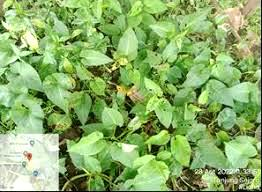Helopeltis-Withered Sprout: (146, 129, 171, 145), (51, 113, 73, 130), (234, 115, 257, 131), (21, 31, 40, 50), (238, 36, 252, 60), (63, 57, 79, 75), (128, 88, 144, 105), (199, 90, 211, 107), (174, 27, 191, 39), (215, 131, 230, 144), (117, 56, 131, 69), (152, 61, 169, 71), (164, 81, 176, 95), (117, 82, 127, 95), (186, 102, 197, 113)
